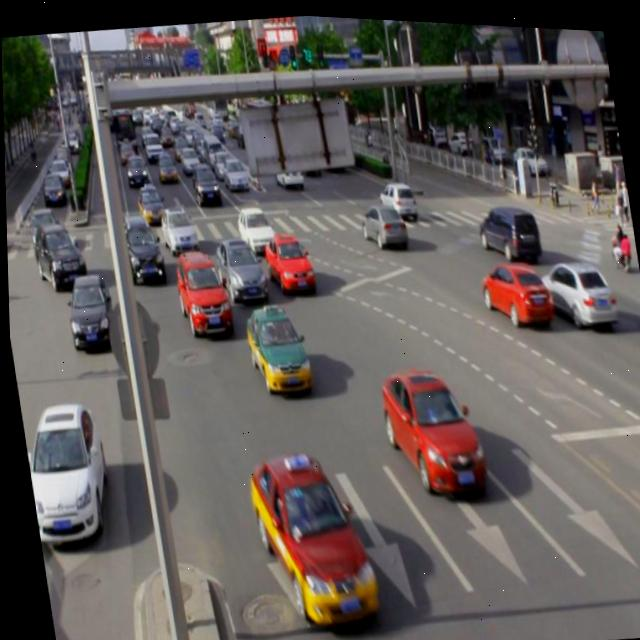car: (242, 437, 378, 627), (375, 354, 486, 499), (17, 392, 114, 541), (239, 294, 311, 393), (531, 249, 617, 324), (171, 243, 233, 339), (475, 252, 551, 325), (62, 269, 117, 354), (471, 194, 541, 260), (212, 229, 269, 307), (261, 226, 315, 295), (118, 208, 166, 285), (357, 196, 407, 249), (233, 198, 277, 252)
